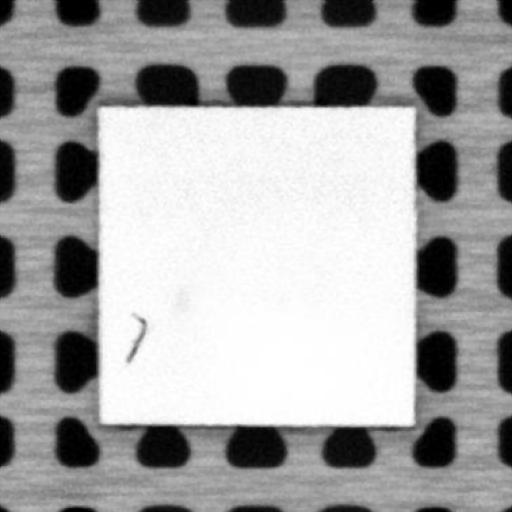DIE_INK: (122, 310, 148, 364)
